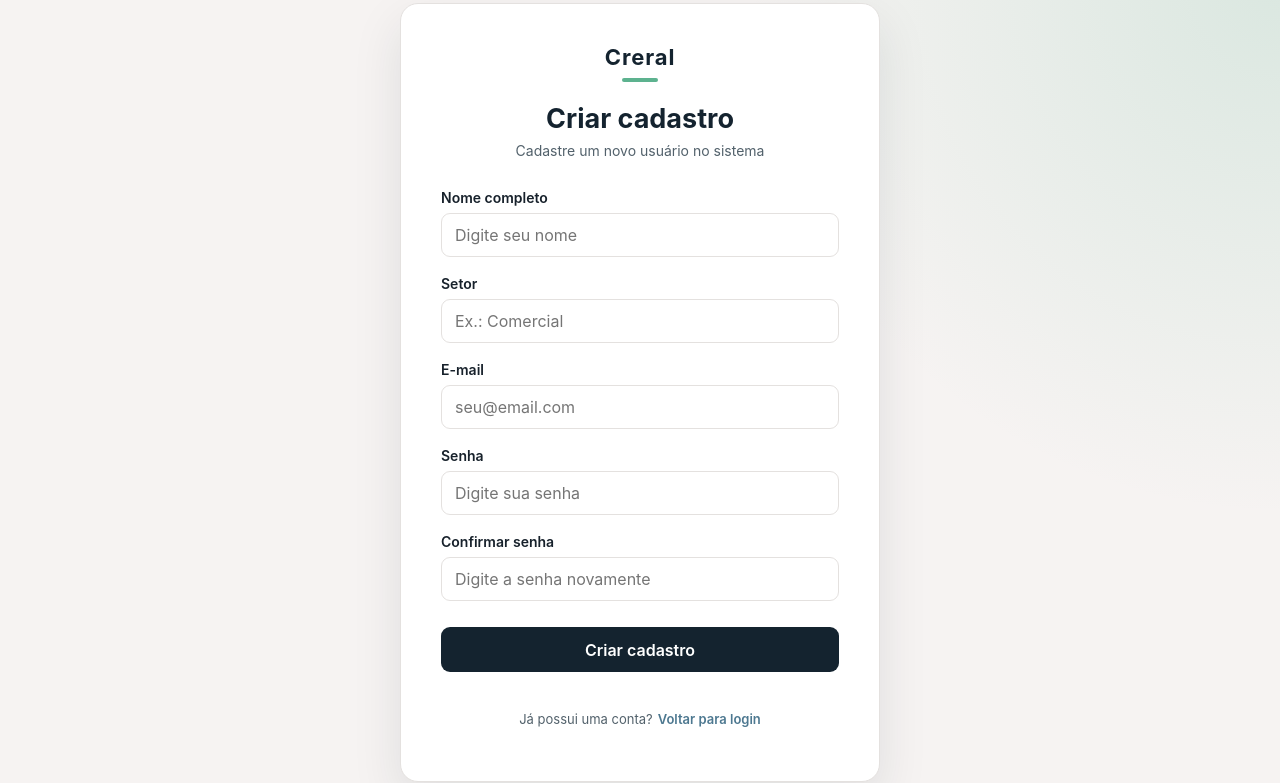
Test: AUT-12: validação mantém os cinco campos, {"Confirmar senha":"outra-senha"}
The image size is (1280, 783).
Type " Ana " into the field labelled "Nome completo" at (640, 235), box [441,213,839,257]
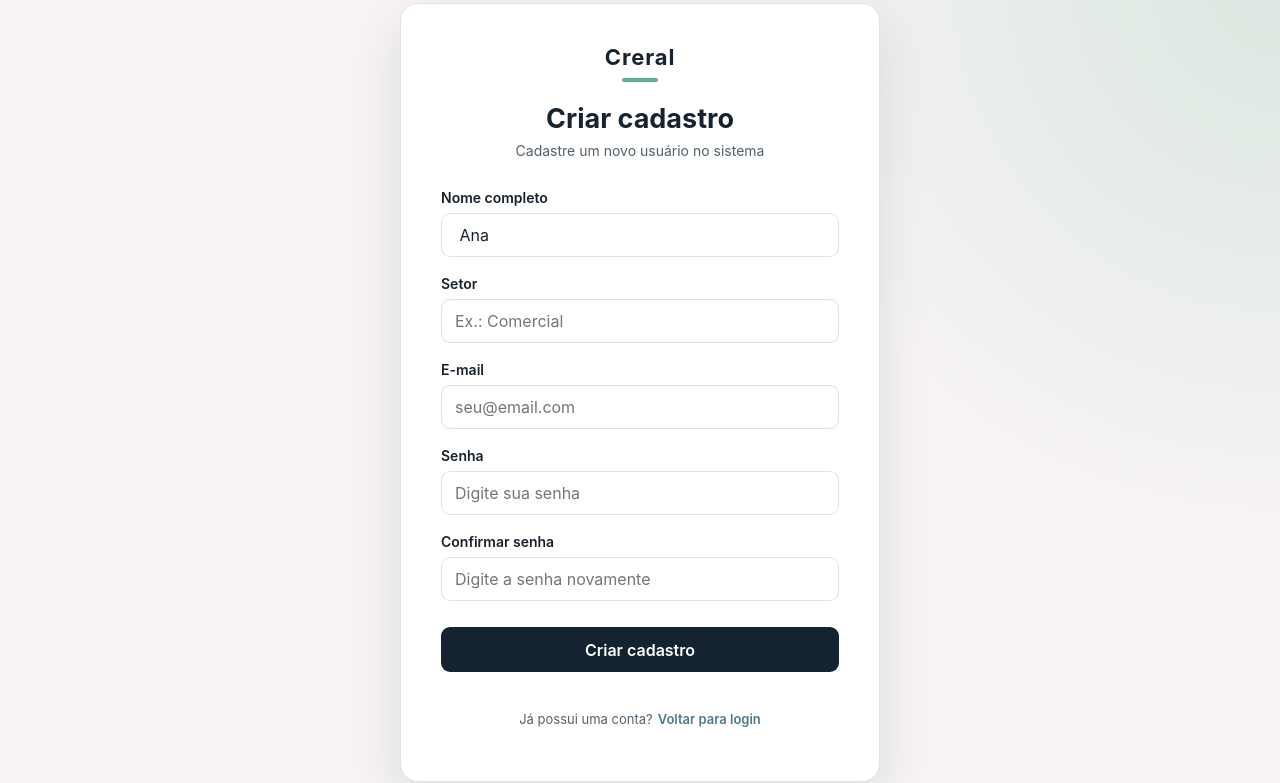
Type " Campo " into the field labelled "Setor" at (640, 321), box [441,299,839,343]
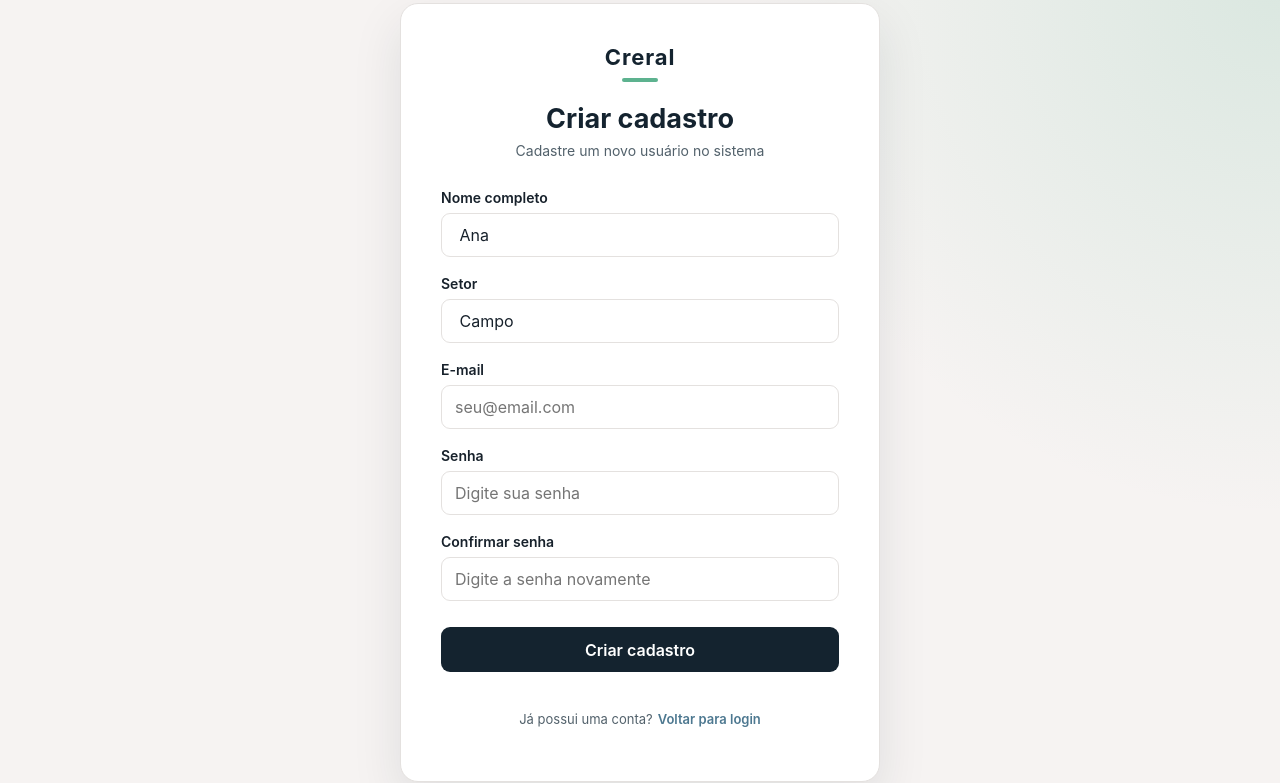
Type "ana@example.test" into the field labelled "E-mail" at (640, 407), box [441,385,839,429]
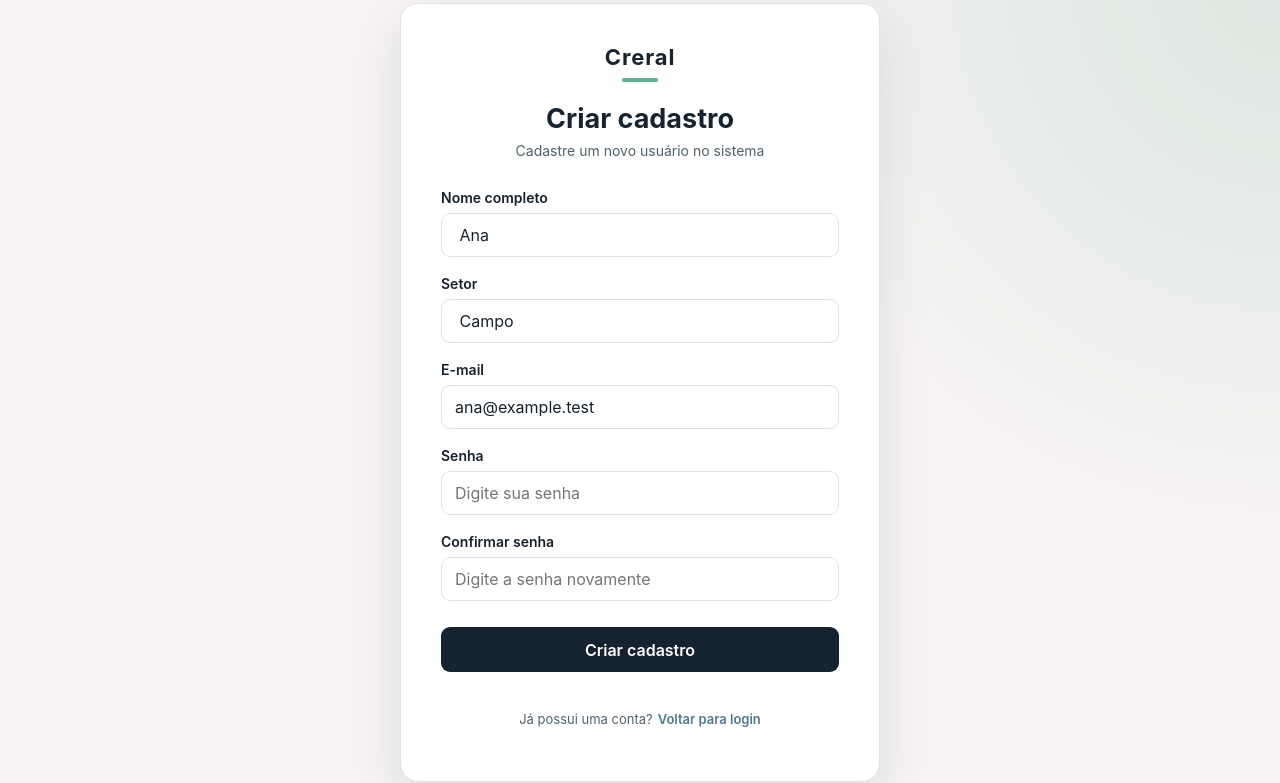
Type " 1234 " into the password field labelled "Senha" at (640, 493), box [441,471,839,515]
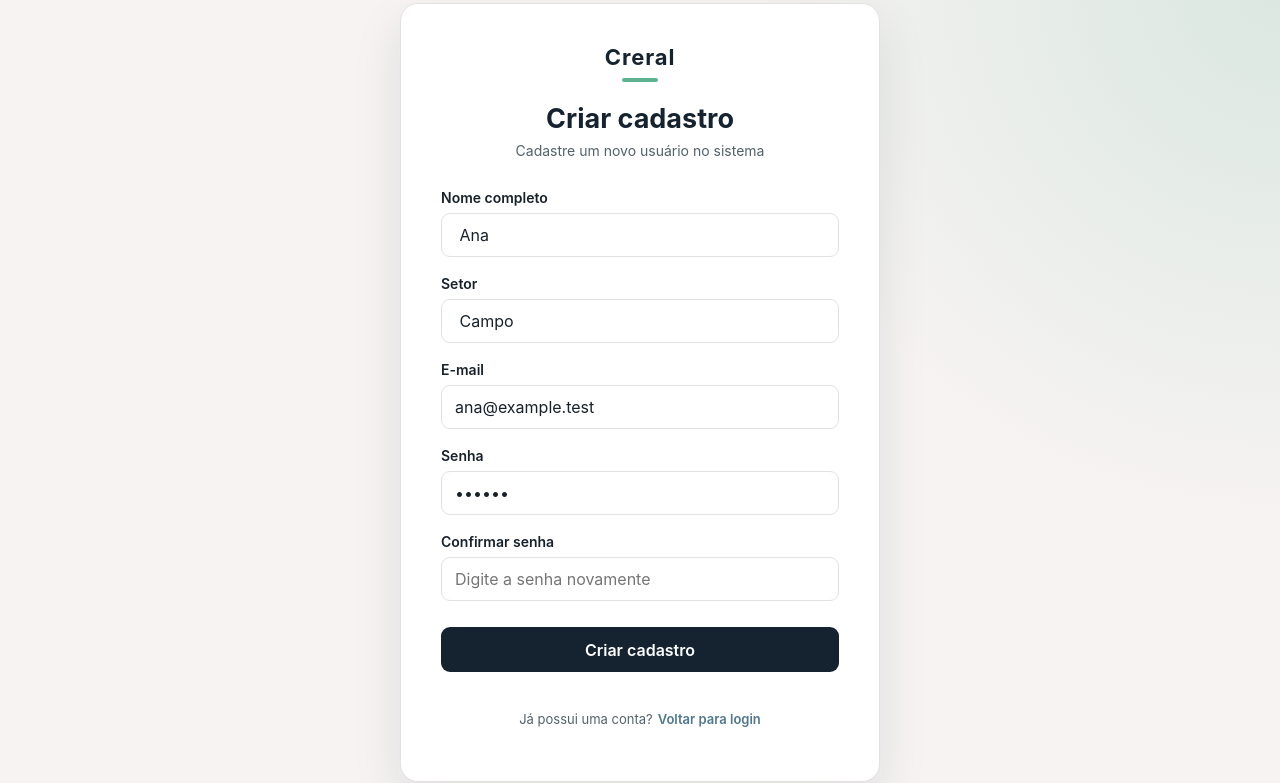
Type "outra-senha" into the password field labelled "Confirmar senha" at (640, 579), box [441,557,839,601]
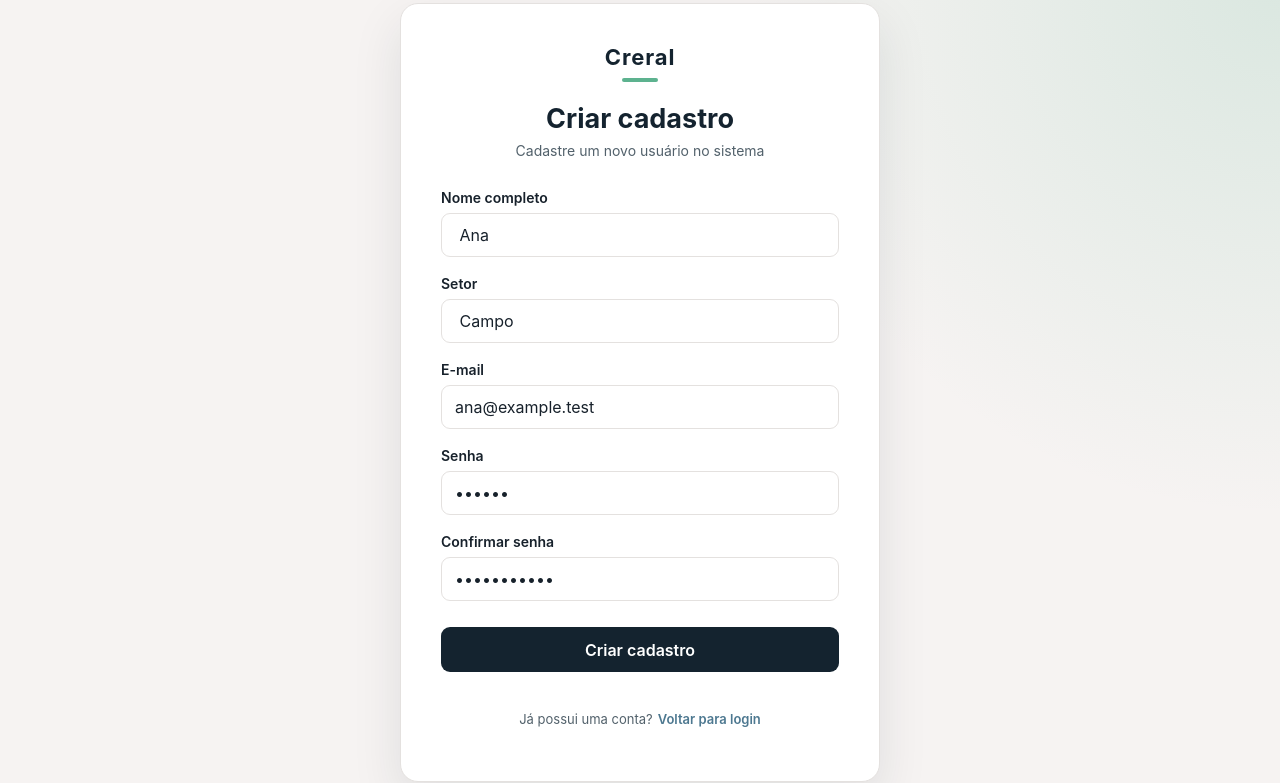
Click the button "Criar cadastro" at (640, 650), box [441,627,839,672]
(page scrolled)
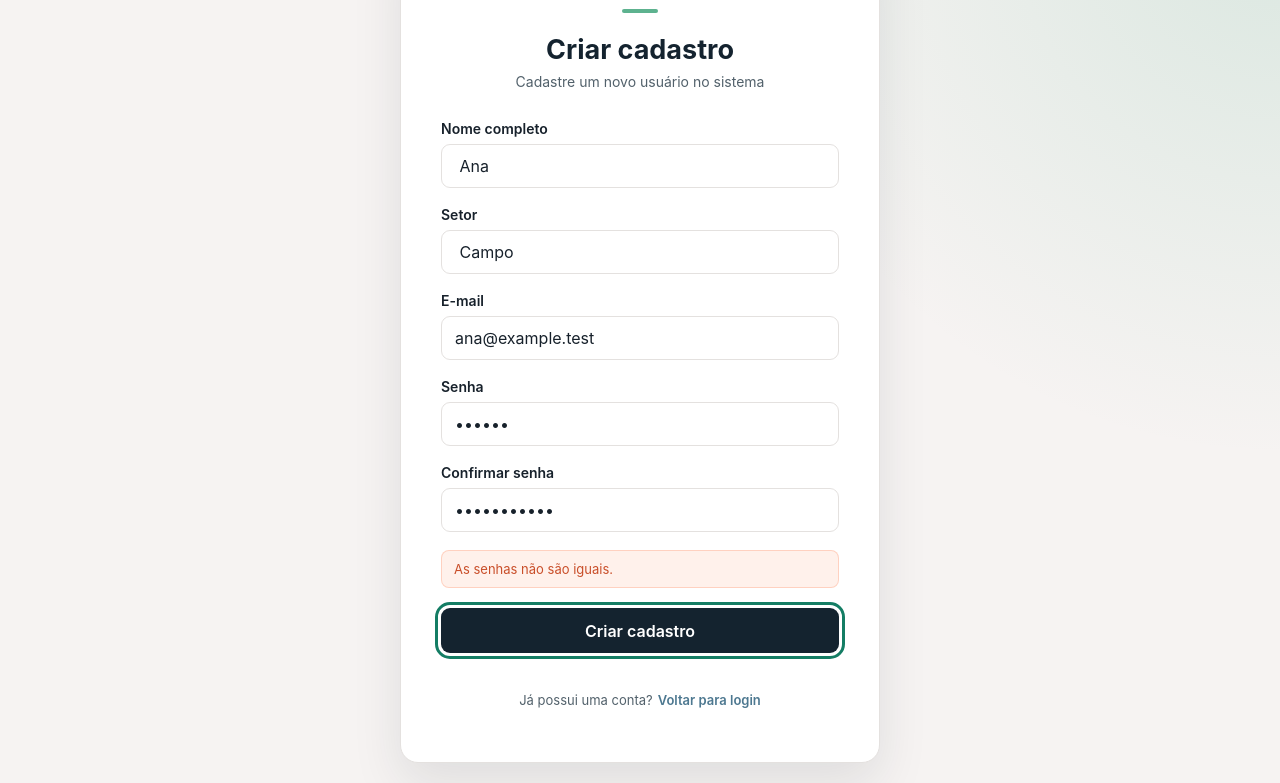
Check: the field labelled "Nome completo" is enabled, box [441,144,839,188]
Check: the message reads "As senhas não são iguais.", box [454,561,613,577]
